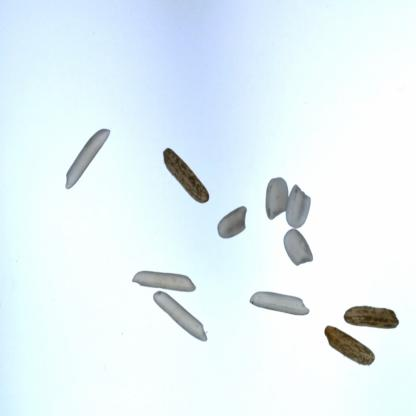Full: (63, 109, 124, 192), (150, 276, 206, 354), (166, 138, 218, 212), (312, 326, 372, 378), (243, 281, 307, 323), (334, 306, 397, 343), (129, 258, 196, 290), (212, 199, 258, 242), (278, 227, 318, 271), (284, 183, 318, 233), (265, 174, 295, 222)
